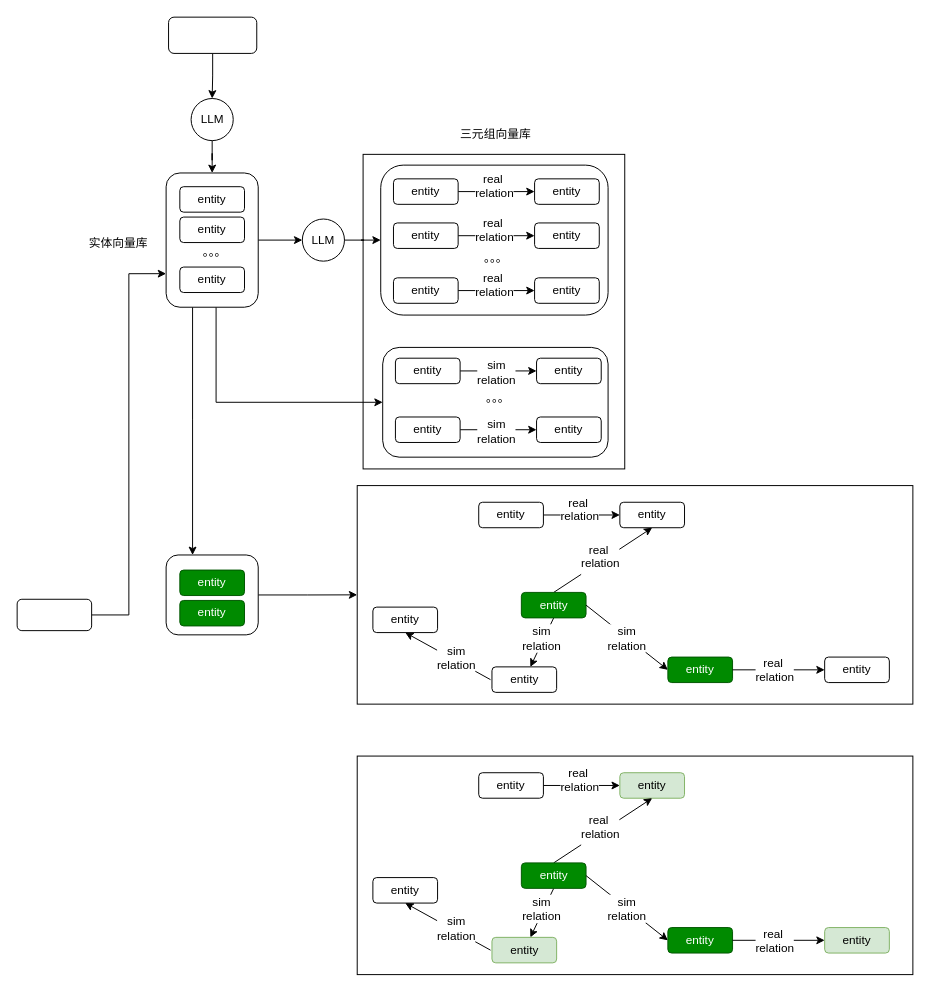
The diagram is 930 pixels wide and 992 high, and some of its shapes have lost their labels. Here are the shapes that lost their labels. From the top down, the centre of each, then its label:
At point (212, 34): "documents".
At point (54, 614): "query".
